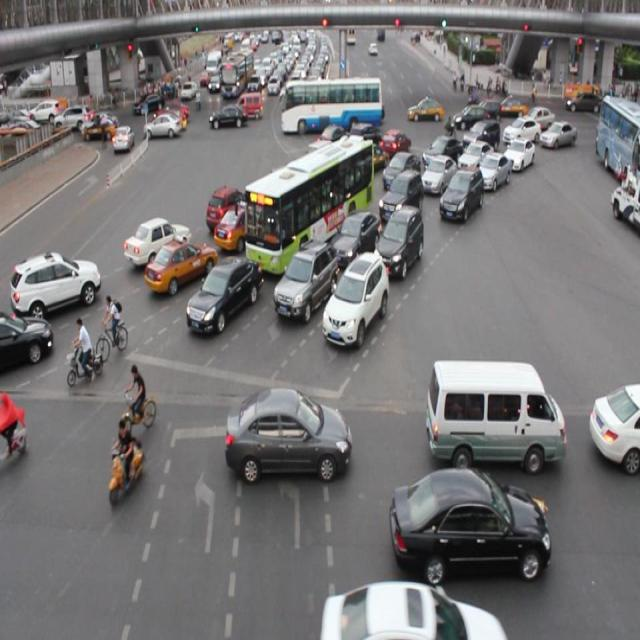car: (390, 466, 548, 583), (225, 386, 351, 482), (320, 579, 504, 640), (322, 249, 388, 348), (12, 251, 100, 318), (186, 255, 261, 329), (272, 239, 336, 324), (587, 382, 640, 471), (146, 236, 216, 293), (124, 217, 192, 269), (376, 203, 423, 277), (329, 210, 380, 269), (1, 312, 53, 368), (215, 201, 272, 251), (206, 185, 262, 233), (261, 166, 314, 214), (378, 168, 422, 225), (271, 180, 325, 226), (438, 167, 482, 223), (317, 159, 364, 201), (421, 134, 461, 174), (420, 154, 456, 197), (382, 150, 418, 193), (463, 121, 499, 159), (474, 152, 508, 192), (501, 114, 539, 149), (457, 140, 492, 175), (347, 121, 381, 156), (351, 140, 388, 172), (502, 138, 534, 173), (379, 130, 410, 162), (317, 125, 347, 156)
truck: (427, 357, 565, 468), (301, 140, 350, 184)
van: (245, 138, 372, 272)
